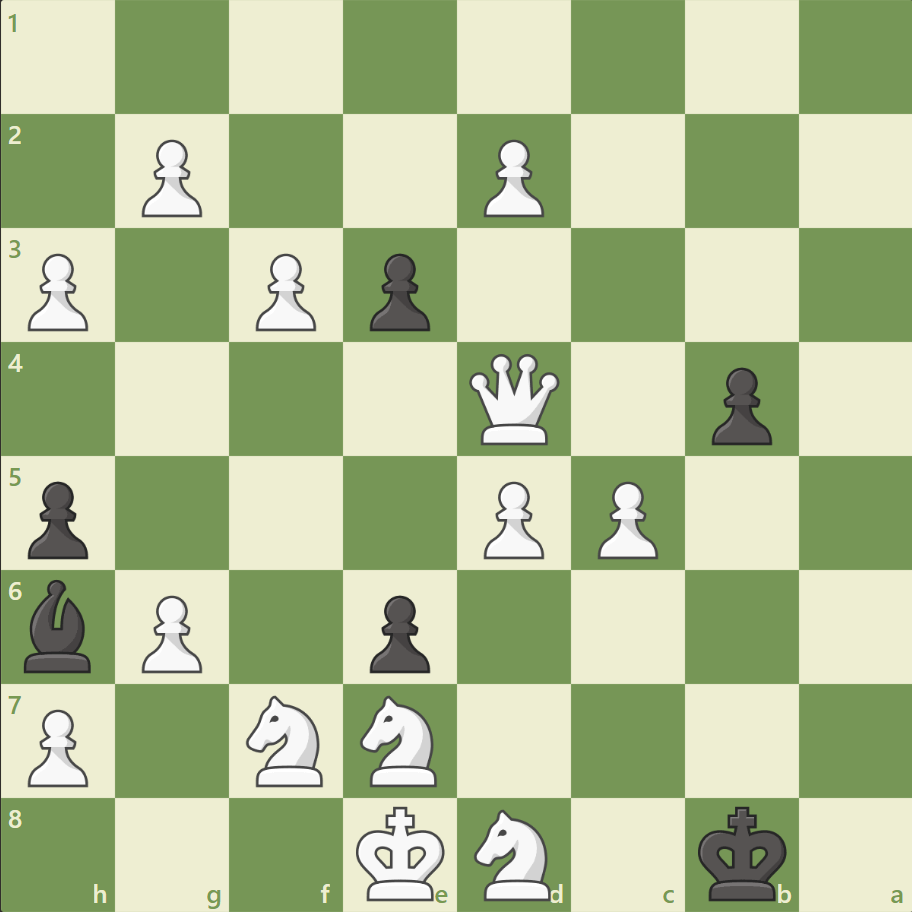K: (351, 798, 451, 906)
N: (351, 688, 449, 791), (238, 688, 335, 791), (465, 802, 562, 904)
P: (20, 700, 95, 791), (133, 586, 208, 677), (474, 473, 549, 564), (247, 246, 322, 337), (20, 246, 95, 337), (474, 132, 549, 223), (133, 132, 208, 223), (588, 473, 662, 564)
Q: (464, 349, 563, 449)
b: (17, 574, 101, 676)
k: (692, 798, 792, 906)
p: (20, 473, 95, 564), (701, 359, 776, 450), (361, 586, 435, 677), (361, 246, 435, 337)
